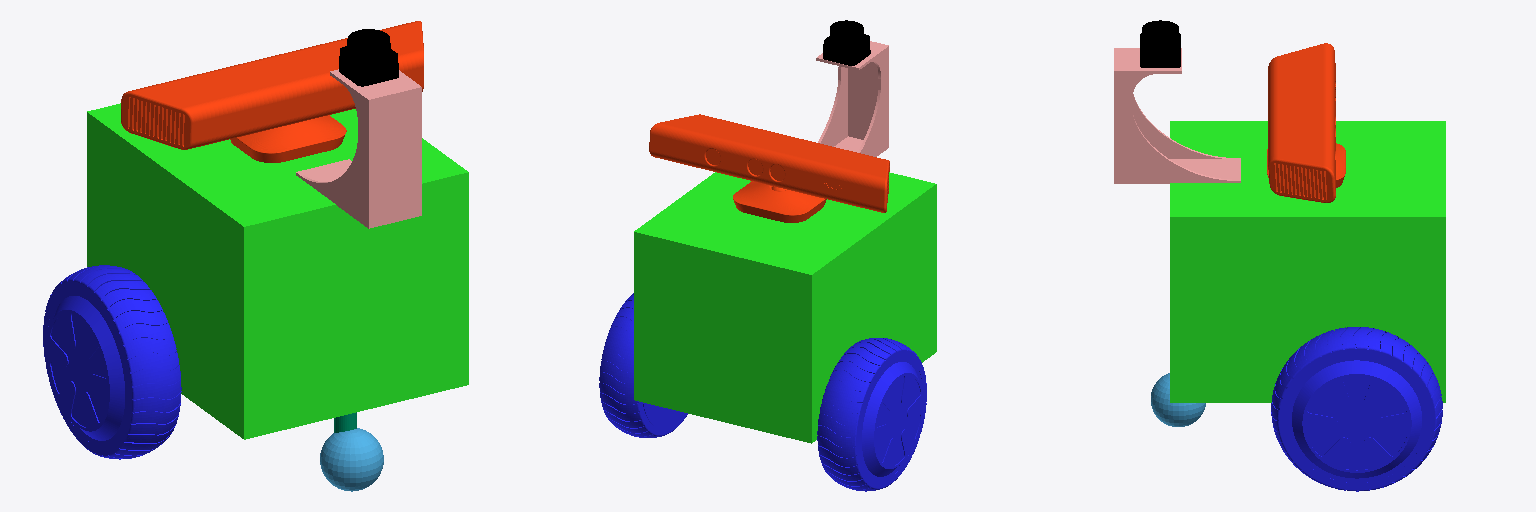
The robot description file, URDF, robot "travel_bot":
<?xml version="1.0"?>
<robot name="travel_bot">
    <!--to include other files-->
    <!--xacro:include filename="my_materials.xacro"/-->

    <link name="world_link"/>

 <!--.............................................................caster_link...................................................................-->

    <link name="sphere_link">
        <visual>
        <origin xyz="1.5 0.88 0.025" rpy="0.0 0.0 0.0"/>
        <geometry>
            <sphere radius="0.026"/>
        </geometry>   
        </visual>
        <collision>
        <origin xyz="1.5 0.88 0.025" rpy="0.0 0.0 0.0"/>
        <geometry>
            <sphere radius="0.026"/>
        </geometry> 
        </collision>
        <inertial>
            <origin xyz="1.5 0.88 0.025" rpy="0.0 0.0 0.0"/>
            <mass value="0.002"/>
            <inertia ixx="0.000015417" ixy="0.0" ixz="0.0" iyy="0.000015417" iyz="0.0" izz="0.000004"/>
        </inertial>
        <!--gazebo reference="sphere_link">  gazebo tags outside links, posibly in one gazebo tag
          <material>Gazebo/Blue</material>
        </gazebo-->

    </link>

     <joint name="sphere_joint" type="fixed">
        <parent link="caster_link"/>
        <child link="sphere_link"/>
        <origin xyz="0.0 0.0 0.0" rpy="0.0 0.0 0.0"/>
    </joint>   

    <link name="caster_link">
        <visual>
            <origin xyz="1.5 0.89 0.055" rpy="0.0 0.0 0.0"/>
            <geometry>
                <cylinder radius="0.0095" length="0.05"/>
            </geometry>
        </visual>
        <collision>
             <origin xyz="1.5 0.89 0.055" rpy="0.0 0.0 0.0"/>
            <geometry>
                <cylinder radius="0.001" length="0.5"/>
            </geometry>    
        </collision>
        <inertial>
            <origin xyz="1.5 0.89 0.055" rpy="0.0 0.0 0.0"/>
            <mass value="0.002"/>
            <inertia ixx="0.000015417" ixy="0.0" ixz="0.0" iyy="0.000015417" iyz="0.0" izz="0.000004"/>
        </inertial>

        <gazebo reference="caster_link">
          <material>Gazebo/Blue</material>
        </gazebo>
        
    </link>
   
    <joint name="caster_joint" type="continuous">
        <parent link="base_link"/>
        <child link="caster_link"/>
        <axis xyz="0 0 1"/>
        <origin xyz="-1.5 -1.0 0.0" rpy="0 0 0"/>
    </joint>
    
<!--................................................................end caster................................................................-->
<!-->.................................................................base_link.................................................................-->
    <link name="base_link">
        <visual>
            <origin xyz="0.0 0.0 0.165" rpy="0.0 0.0 0.0"/>
            <geometry>
                <box size="0.21 0.255 0.19"/>
            </geometry>
            <material name="green">
                <color rgba="0.2 1 0.2 1"/>
            </material>
        </visual>
        <collision>
            <origin xyz="0.0 0.0 0.165" rpy="0.0 0.0 0.0"/>
            <geometry>
                <box size="0.21 0.255 0.19"/>
            </geometry>
        </collision>
        <inertial>
            <origin xyz="0.0 0.0 0.165" rpy="0.0 0.0 0.0"/>
            <mass value="1.5"/>
            <inertia ixx="0.012640625" ixy="0.0" ixz="0.0" iyy="0.009090113" iyz="0.0" izz="0.00668066"/>  <!--still have to work these out online, box of 1.5kg + dimentions-->
        </inertial>

              <!--gazebo colours moved outside of link-->
        
    </link>

    <gazebo reference="base_link">
        <material>Gazebo/GreenTransparent</material>
    </gazebo>

    <joint name="base_joint" type="fixed">
        <parent link="world_link"/>
        <child link="base_link"/>
        <origin xyz="1.5 1.0 0.0" rpy="0.0 0.0 0.0"/>
    </joint>

 <!--................................................................................end base_link..............................................................-->
 <!--................................................................................right_wheel_link........................................................-->   

    <link name="right_wheel_link">
        <visual>
            <origin xyz="0.0 0.0 0.0" rpy="0.0 0.0 0.0"/>
            <geometry>
            <!--when using path to mesh file it must be in package and path should start with package://-->
                <mesh filename="package://travel_bot_description/meshes/Hoverboard_Wheel_6_in.stl" scale="0.001 0.001 0.001"/>
            <!--using auto fill mesh block> it gives only variable in scale but three reqiured x,y,x -->
            </geometry>
            <material name="blue">
                <color rgba="0.2 0.2 1 1"/>
            </material>
        </visual>

        <collision>
            <origin xyz="0.03 0.0 0.0" rpy="0.0 -1.5708 0.0"/>
            <geometry>
                <cylinder radius="0.08" length="0.045"/>
            </geometry>
        </collision>

        <inertial>
            <origin xyz="0.03 0.0 0.0" rpy="0.0 -1.5708 0.0"/>
            <mass value="2.0"/>
            <inertia ixx="0.00305" ixy="0.0" ixz="0.0" iyy="0.00305" iyz="0.0" izz="0.0049"/>  
            <!--still have to work these out online, cylinder of 2kg + dimentions-->
        </inertial>
        
        <gazebo reference="right_wheel_link">
          <material>Gazebo/Blue</material>
        </gazebo>

    </link>

        <link name="left_wheel_link">
        <visual>
            <origin xyz="-0.0 0.0 0.0" rpy="0.0 0.0 0.0"/>
            <geometry>
            <!--filename says path to file but filename works as long as in meshes folder under package folder-->
                <!--mesh filename="Hoverboard_Wheel_6_in.stl" scale="0.001 0.001 0.001"/--><!--no it doesn,t-->
                <mesh filename="package://travel_bot_description/meshes/Hoverboard_Wheel_6_in.stl" scale="0.001 0.001 0.001"/>
            </geometry>
            <material name="blue">
                <color rgba="0.2 0.2 1 1"/>
            </material>
        </visual>
        <collision>
            <origin xyz="0.03 0.0 0.0" rpy="0.0 1.5708 0.0"/>
            <geometry>
                <cylinder radius="0.08" length="0.045"/>
            </geometry>    
        </collision>

        <inertial>
            <origin xyz="0.03 0.0 0.0" rpy="0.0 1.5708 0.0"/>
            <mass value="2.0"/>
            <inertia ixx="0.00305" ixy="0.0" ixz="0.0" iyy="0.00305" iyz="0.0" izz="0.0049"/>  
            <!--still have to work these out online, cylinder of 2kg + dimentions-->
        </inertial>

        <gazebo reference="left_wheel_link">
          <material>Gazebo/Blue</material>
        </gazebo>

    </link>


    <link name="depthCam_link">
        <visual>
            <origin xyz="1.49 1.0 0.27" rpy="0.0 0.0 0.0"/>
            <geometry>
            <!--filename says path to file but filename works as long as in meshes folder under package folder-->
                <!--mesh filename="Hoverboard_Wheel_6_in.stl" scale="0.001 0.001 0.001"/--><!--no it doesn,t-->
                <mesh filename="package://travel_bot_description/meshes/Kinect.stl" scale="0.001 0.001 0.001"/>
            </geometry>
            <material name="orange">
                <color rgba="1 0.3 0.1 1"/>
            </material>
        </visual>
        <collision>
            <origin xyz="1.48 1.005 0.31" rpy="0.0 0.0 1.5708"/>
            <geometry>
            <!--filename says path to file but filename works as long as in meshes folder under package folder-->
                <!--mesh filename="Hoverboard_Wheel_6_in.stl" scale="0.001 0.001 0.001"/--><!--no it doesn,t-->
                <!--mesh filename="package://travel_bot_description/meshes/Kinect.stl" scale="0.001 0.001 0.001"/-->
                <box size="0.055 0.26 0.03"/>
            </geometry>
        </collision>

        <inertial>
            <origin xyz="1.49 1.0 0.27" rpy="0.0 0.0 0.0"/>
            <mass value="0.1"/>
            <inertia ixx="0.000374017" ixy="0.0" ixz="0.0" iyy="0.000374017" iyz="0.0" izz="0.000081634"/>  <!--still have to work these out online, cylinder of 2kg + dimentions-->
        </inertial>

        <gazebo reference="depthCam_link">
          <material>Gazebo/Blue</material>
        </gazebo>

    </link>
<!--......................................lidar_link........................................................................................-->
    <link name="lidar_link">
        <visual>
            <origin xyz="0.0 0.0 0.07" rpy="1.5708 0.0 0.0"/>
            <geometry>
            <!--filename says path to file but filename works as long as in meshes folder under package folder-->
                <!--mesh filename="Hoverboard_Wheel_6_in.stl" scale="0.001 0.001 0.001"/--><!--no it doesn,t-->
                <mesh filename="package://travel_bot_description/meshes/LD06_LiDAR.stl" scale="0.001 0.001 0.001"/>
            </geometry>
            <material name="black">
                <color rgba="0 0 0 1"/>
            </material>
        </visual>
        <collision>
            <origin xyz="0.017 -0.028 0.09" rpy="0.0 0.0 0.0"/>
            <geometry>
            <!--filename says path to file but filename works as long as in meshes folder under package folder-->
                <!--mesh filename="Hoverboard_Wheel_6_in.stl" scale="0.001 0.001 0.001"/--><!--no it doesn,t-->
                <!--mesh filename="package://travel_bot_description/meshes/LD06_LiDAR.stl" scale="0.001 0.001 0.001"/-->
                <cylinder radius="0.02" length="0.032"/>
            </geometry>
        </collision>

        <inertial>
            <origin xyz="0.0 0.0 0.07" rpy="0.0 0.0 0.0"/>
            <mass value="0.002"/>
            <inertia ixx="0.000015417" ixy="0.0" ixz="0.0" iyy="0.000015417" iyz="0.0" izz="0.000004"/>  <!--still have to work these out online, cylinder of 2kg + dimentions-->
        </inertial>

    </link>
<!--gazebo tags ourside of link tags for collour ? maybe everthing gazebo?-->
    <gazebo reference="lidar_link">
        <material>Gazebo/Blue</material>
    </gazebo>

 <!--......................................................................end lidar_link............................................................-->   

    <link name="lidarBracket_link">
        <visual>
            <origin xyz="0.0 0.0 0.07" rpy="0.0 0.0 0.0"/>
            
            <geometry>
            <!--filename says path to file but filename works as long as in meshes folder under package folder-->
                <!--mesh filename="Hoverboard_Wheel_6_in.stl" scale="0.001 0.001 0.001"/--><!--no it doesn,t-->
                <mesh filename="package://travel_bot_description/meshes/lidarMount.stl" scale="0.001 0.001 0.001"/>
            </geometry>
            <material name="pink">
                <color rgba="1 0.7 0.7 1"/>
            </material>
        </visual>
        <!--collision>
            <origin xyz="0.5 0.0 0.0" rpy="0.0 0.0 0.0"/>
            <cylinder radius="0.085" length="0.06"/>
        </collision-->

        <inertial>
            <origin xyz="0.0 0.0 0.0" rpy="0.0 0.0 0.0"/>
            <mass value="0.001"/>
            <inertia ixx="0.0" ixy="0.0" ixz="0.0" iyy="0.0" iyz="0.0" izz="0.0"/>  <!--still have to work these out online, cylinder of 2kg + dimentions-->
        </inertial>

        <gazebo reference="lidarBracket_link">
          <material>Gazebo/Blue</material>
        </gazebo>

    </link>

    <joint name="depthCam_joint" type="fixed">
        <parent link="base_link"/>
        <child link="depthCam_link"/>
        <origin xyz="1.49 1.0 0.0" rpy="0.0 0.0 3.14159"/>
    </joint>

    <joint name="lidarBracket_joint" type="fixed">
        <parent link="base_link"/>
        <child link="lidarBracket_link"/>
        <origin xyz="0.006 -0.18 0.247" rpy="0.0 0.0 0.0"/>
    </joint>

    <joint name="lidar_joint" type="fixed">
        <parent link="lidarBracket_link"/>
        <child link="lidar_link"/>
        <origin xyz="-0.016 0.072 0.053" rpy="0.0 0.0 0.0"/>
    </joint>
    
    <joint name="right_wheel_joint" type="continuous">
        <parent link="base_link"/>
        <child link="right_wheel_link"/>
        <axis xyz="-1 0 0"/>   <!--removing this tag changes nothing? maybe its in wrong posision/works fine, origin was wrong-->
        <origin xyz="0.1 0.045 0.075" rpy="0 0 0"/>
    </joint>

    <joint name="left_wheel_joint" type="continuous">
        <parent link="base_link"/>
        <child link="left_wheel_link"/>
        <axis xyz="1 0 0"/>
        <origin xyz="-0.1 0.045 0.075" rpy="0.0 3.14159 0.0"/>
    </joint>
    

</robot>

--- Render facts (derived) ---
3 views of the same robot in one strip: view 1: azimuth 30°, elevation 25°; view 2: azimuth 150°, elevation 25°; view 3: azimuth 270°, elevation 25° (orthographic).
Robot: travel_bot — 9 links, 8 joints (3 continuous, 5 fixed); root link world_link; default pose: all joints at 0.
Links seen in each view (by area): view 1: base_link, left_wheel_link, depthCam_link, lidarBracket_link, sphere_link, lidar_link; view 2: base_link, depthCam_link, left_wheel_link, lidarBracket_link, right_wheel_link, lidar_link; view 3: base_link, right_wheel_link, depthCam_link, lidarBracket_link, lidar_link, sphere_link.
Boxes of the visible links, x1=… form: base_link: x1=87, y1=103, x2=468, y2=439; left_wheel_link: x1=43, y1=265, x2=181, y2=459; depthCam_link: x1=121, y1=21, x2=423, y2=162; lidarBracket_link: x1=296, y1=69, x2=421, y2=228; sphere_link: x1=320, y1=428, x2=383, y2=491; lidar_link: x1=339, y1=29, x2=398, y2=86; base_link: x1=634, y1=172, x2=936, y2=443; depthCam_link: x1=649, y1=114, x2=889, y2=222; left_wheel_link: x1=817, y1=338, x2=926, y2=491; lidarBracket_link: x1=816, y1=41, x2=888, y2=156; right_wheel_link: x1=599, y1=293, x2=687, y2=437; lidar_link: x1=823, y1=20, x2=870, y2=65; base_link: x1=1170, y1=121, x2=1445, y2=402; right_wheel_link: x1=1271, y1=327, x2=1442, y2=491; depthCam_link: x1=1267, y1=43, x2=1345, y2=202; lidarBracket_link: x1=1114, y1=48, x2=1240, y2=183; lidar_link: x1=1140, y1=20, x2=1180, y2=67; sphere_link: x1=1151, y1=373, x2=1205, y2=426.
Bounding box of the posed robot: 0.32 × 0.3075 × 0.4111 m (x, y, z).
Meshes: 4 distinct files referenced, 5 mesh visuals loaded (4 binary STL).